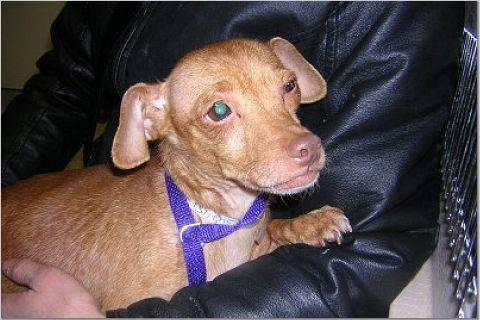dog: (2, 39, 351, 316)
